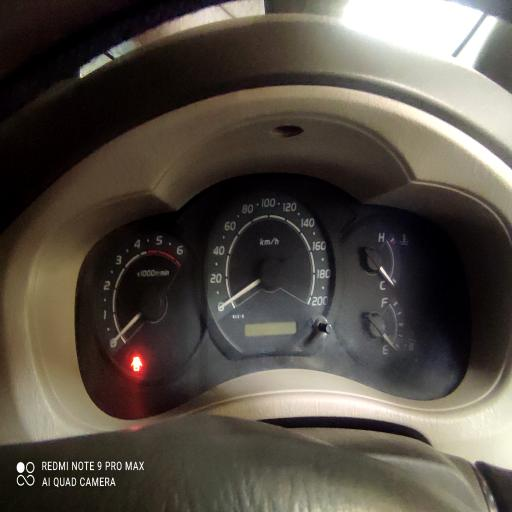tachometer: (93, 228, 206, 381)
